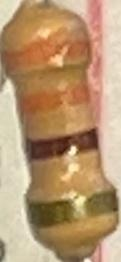Brown: (24, 127, 100, 166)
Green: (5, 34, 93, 75)
Orange: (15, 82, 91, 116)
Side-Gold: (26, 187, 121, 234)
